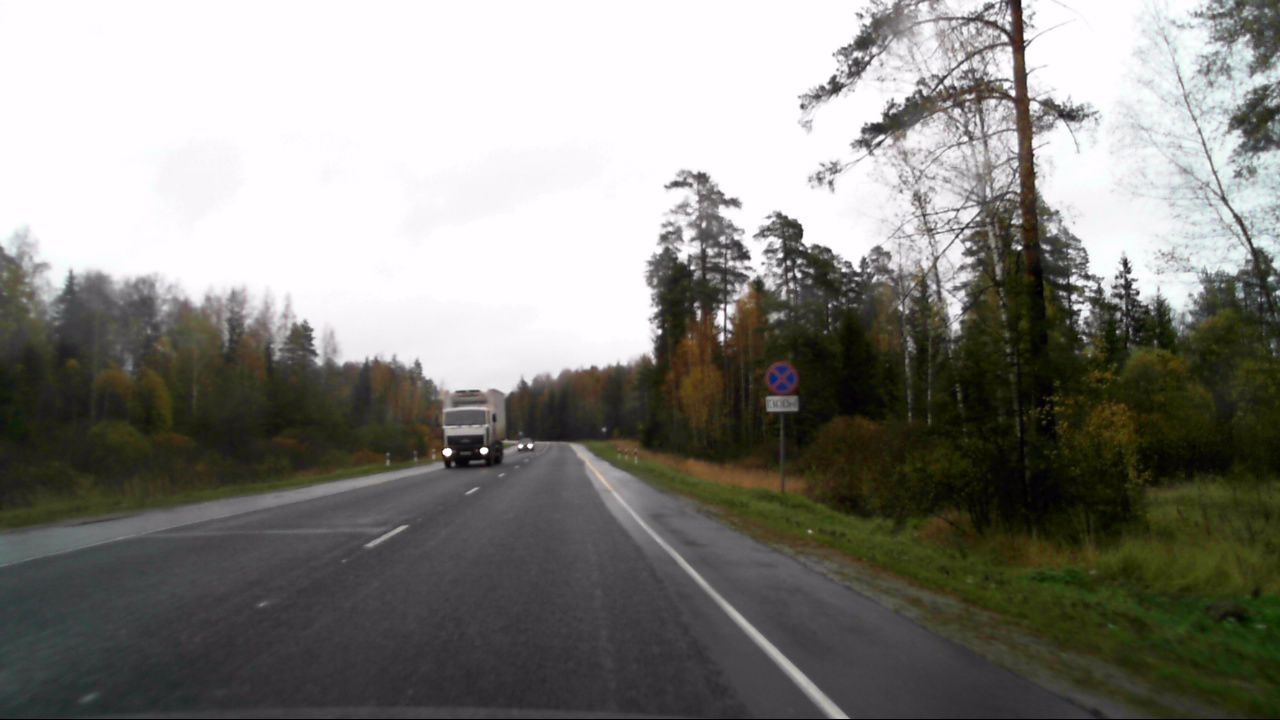No Parking: (762, 356, 798, 395)
